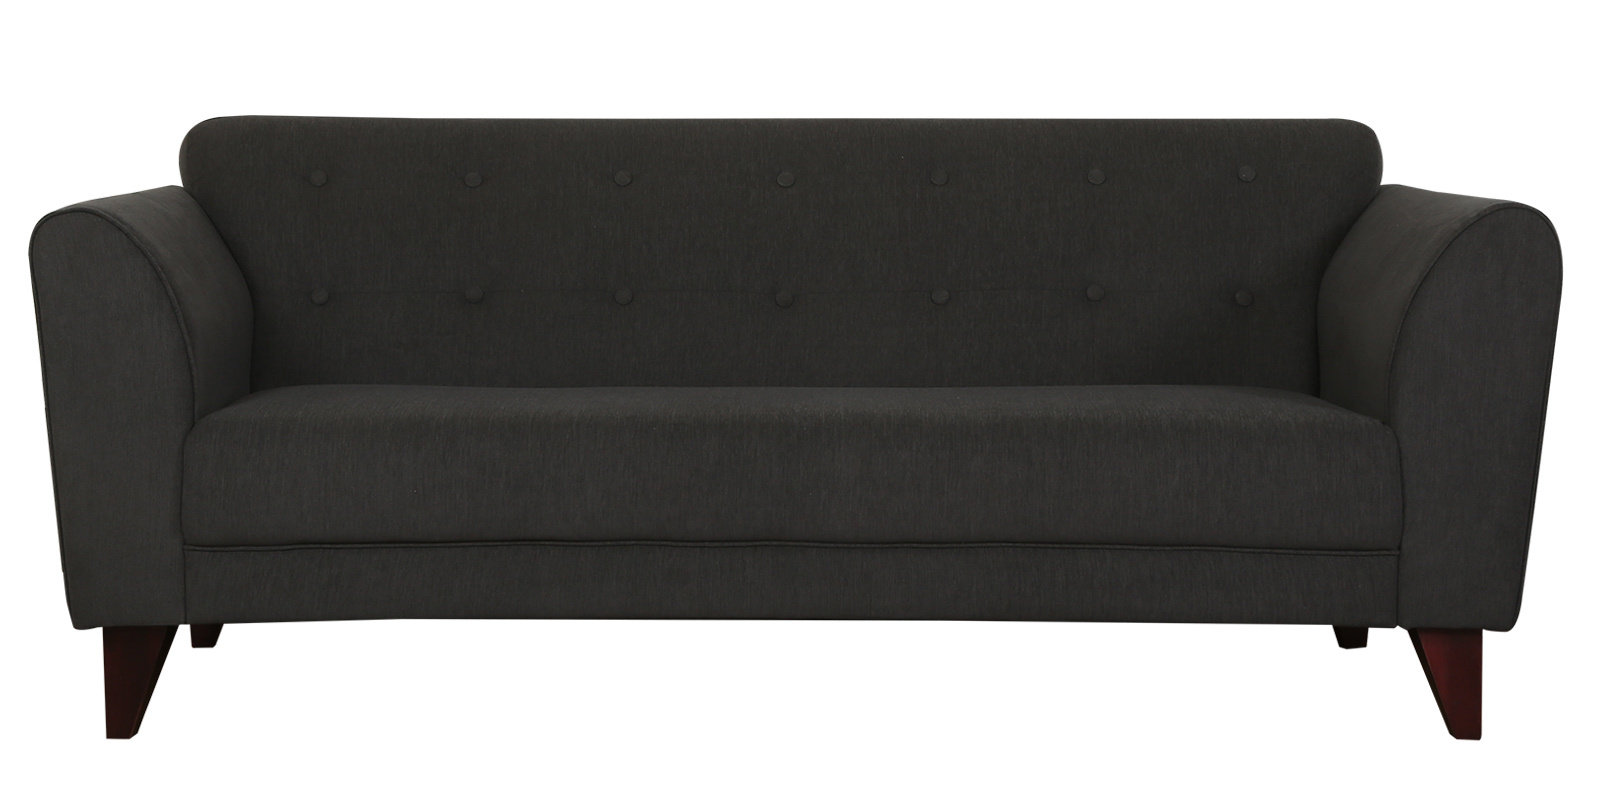Belem Three Seater Sofa in Charcoal Grey Color by CasaCraft: (21, 100, 1568, 713)
